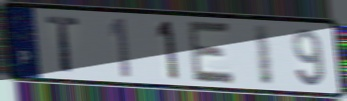1: (155, 19, 181, 81), (108, 16, 132, 80)
9: (290, 26, 326, 89)
E: (187, 19, 237, 86)
I: (251, 23, 276, 88)
T: (43, 14, 82, 75)
